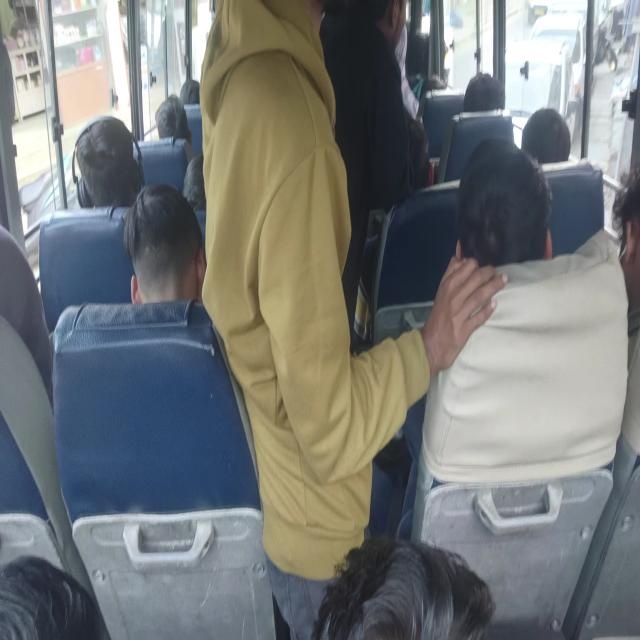person: (284, 530, 521, 640), (226, 3, 376, 156), (466, 153, 554, 281), (132, 195, 210, 332), (70, 113, 149, 246), (342, 134, 438, 240), (0, 237, 47, 412), (0, 562, 105, 640), (603, 184, 640, 382), (328, 0, 412, 65), (533, 102, 579, 179), (461, 63, 510, 123), (156, 96, 184, 137), (180, 74, 202, 105)
